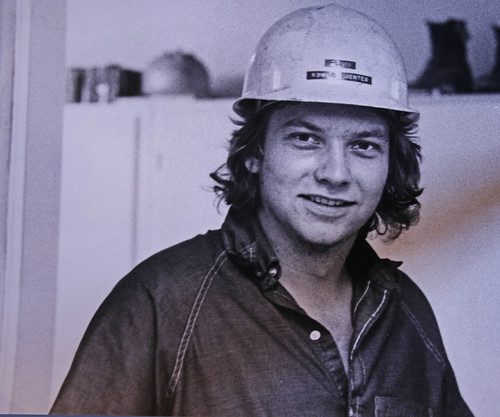person hardhat: (96, 2, 474, 417)
